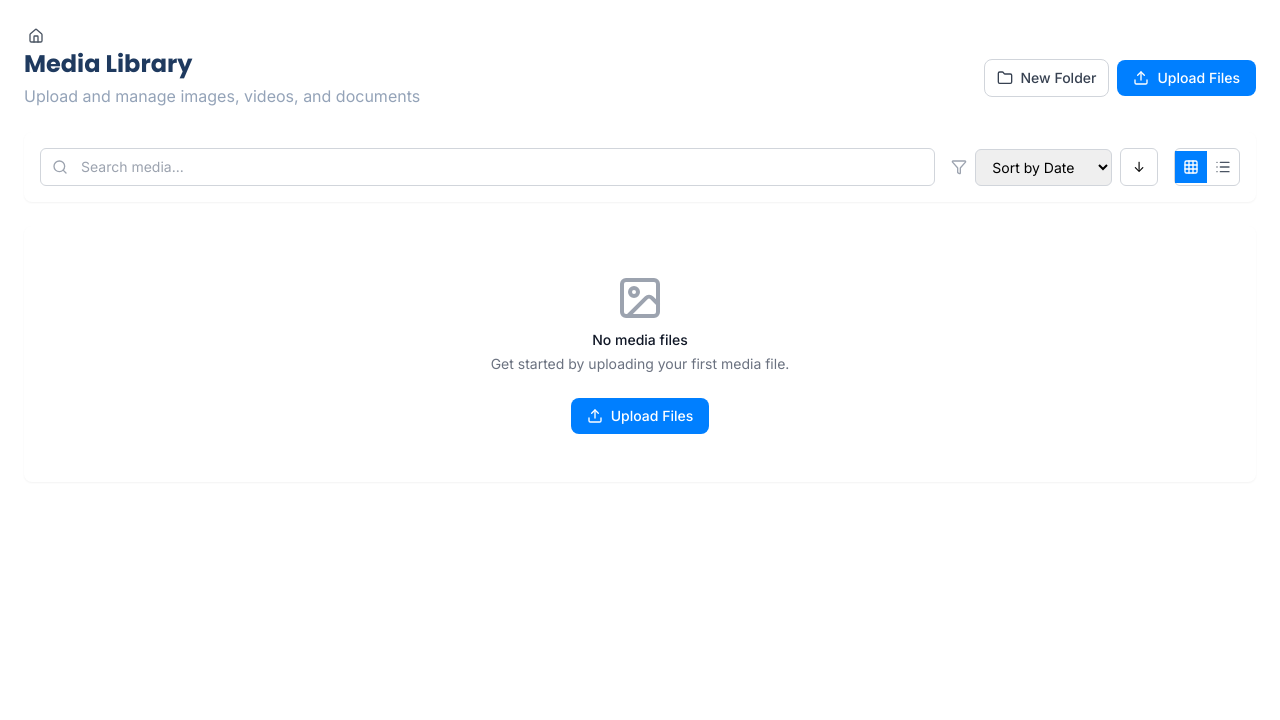
Test case: MediaManager Component › should open new folder modal when new folder button is clicked
Step 1. Click the button "New Folder" → (1046, 78), box [984,59,1110,97]
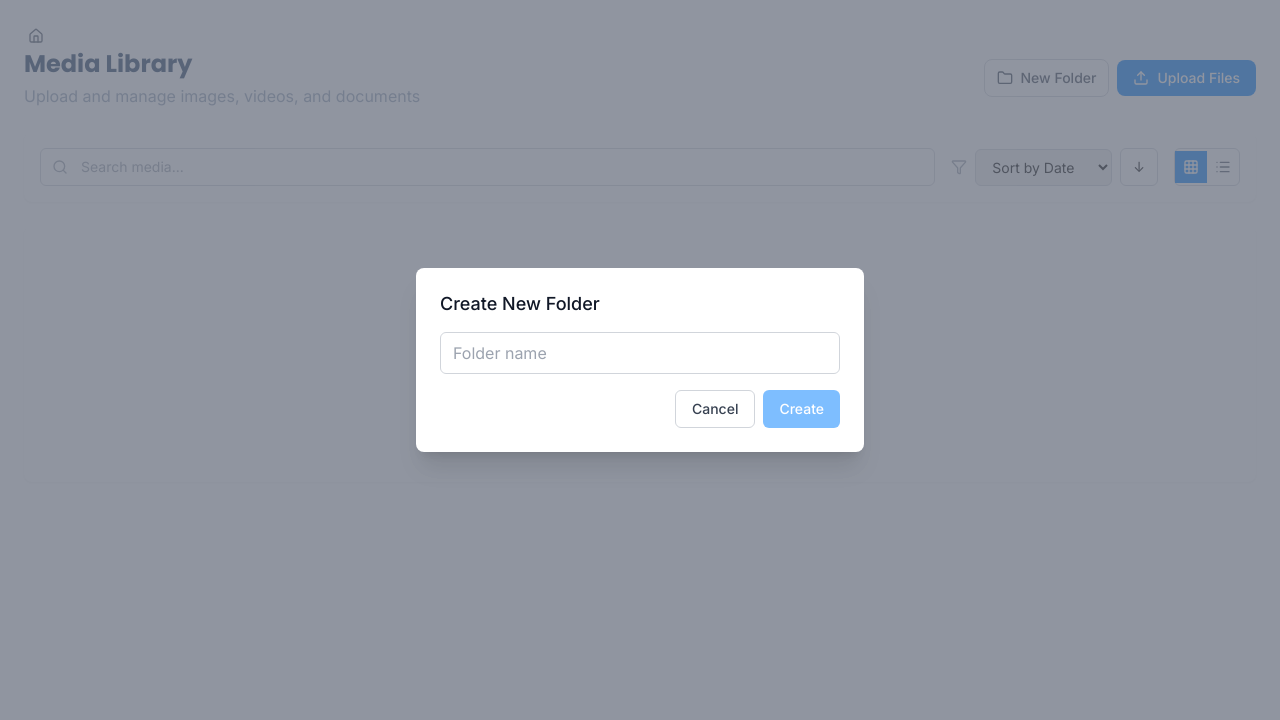
Check: the heading "Create New Folder" is shown, box [440,293,600,314]
Check: the field with placeholder "Folder name" is shown, box [440,332,840,374]
